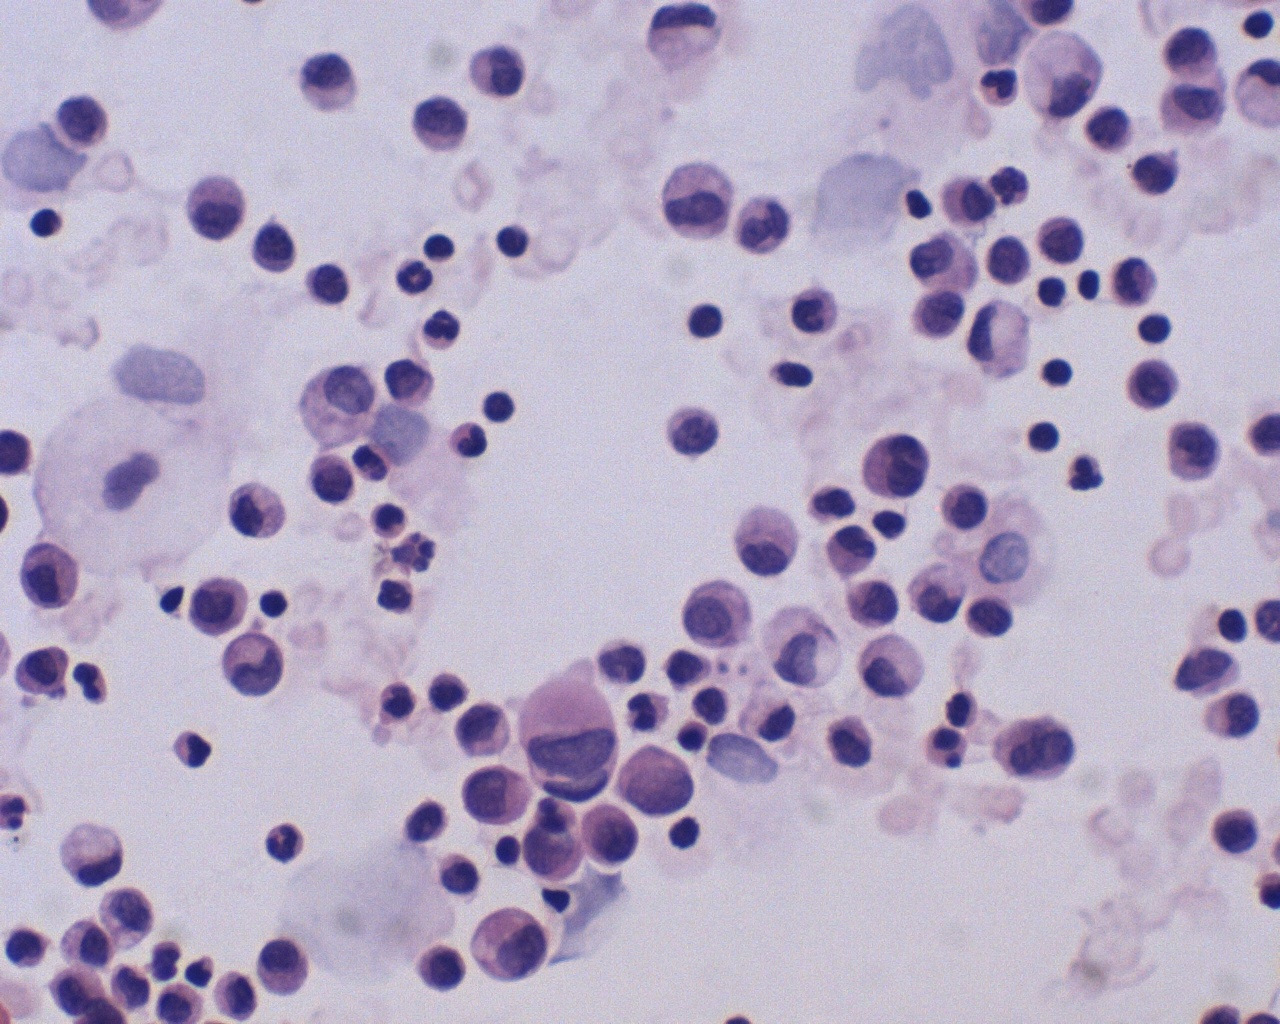ab: (515, 674, 626, 799), (469, 904, 554, 984), (616, 741, 702, 819), (856, 426, 935, 503), (456, 763, 536, 827), (47, 89, 120, 158), (185, 572, 255, 641), (405, 91, 471, 160), (576, 796, 638, 868), (300, 447, 360, 506), (13, 639, 70, 701), (842, 575, 901, 633), (1126, 354, 1179, 414)
histo: (57, 819, 126, 894)
lymph: (688, 299, 731, 343), (1231, 9, 1280, 48), (1038, 351, 1076, 396), (25, 202, 65, 241), (1027, 417, 1064, 457), (254, 584, 289, 625)
meso: (726, 499, 801, 580), (251, 932, 315, 1001)
neutro: (981, 159, 1035, 214), (257, 817, 311, 870), (168, 722, 220, 777), (415, 301, 465, 356), (390, 248, 438, 298), (373, 679, 421, 729), (1060, 450, 1108, 499), (975, 62, 1024, 107), (443, 418, 489, 465), (375, 575, 422, 618)
